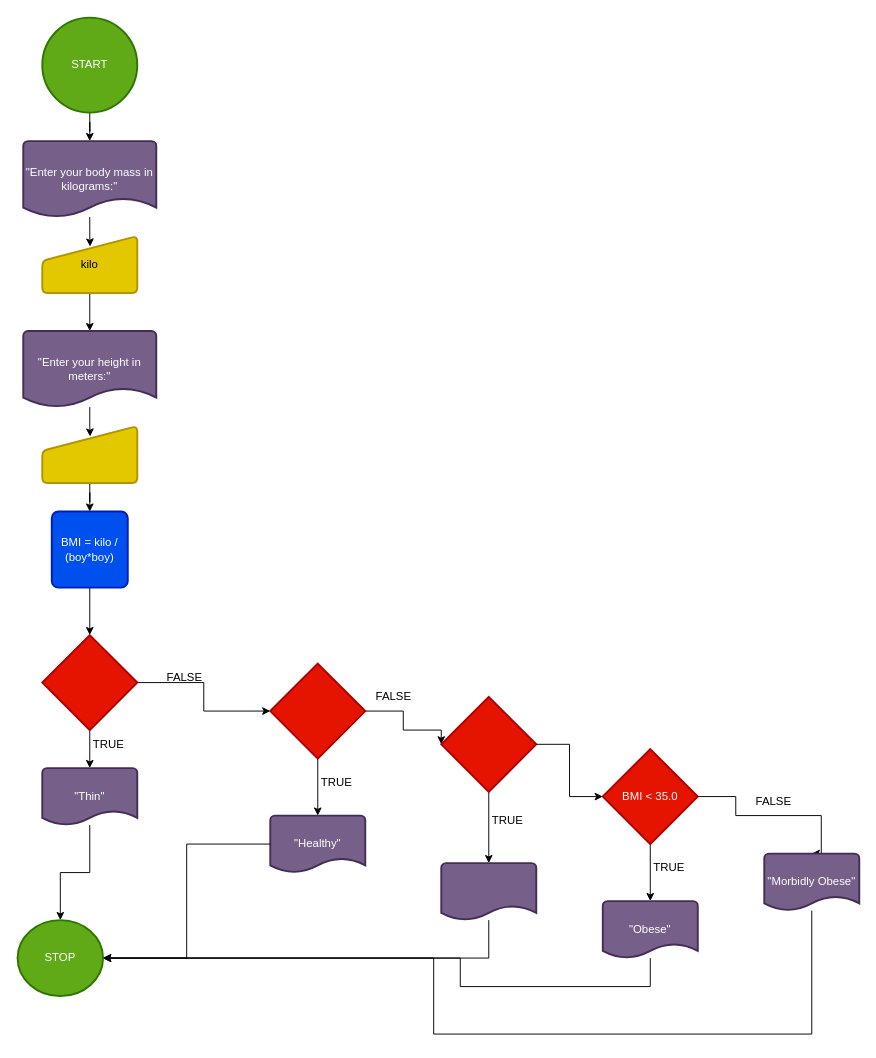
This 876x1058 diagram has some shape labels left out. Each missing label, with the centre of its shape:
"Fat": pixel 488 891
BMI < 18.5: pixel 89 682
BMI < 25.0: pixel 317 710
BMI < 30.0: pixel 488 743
boy: pixel 89 454
